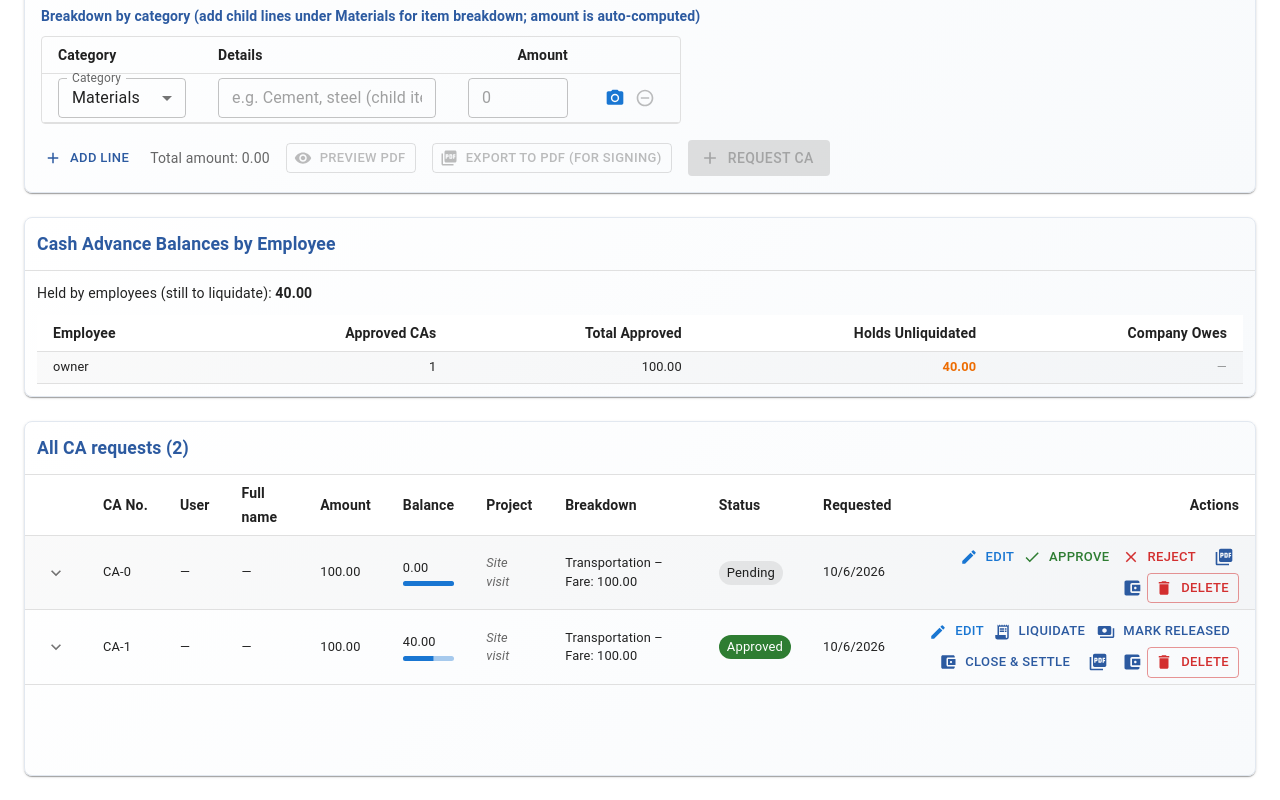
Test: superadmin can open approved request; cancelling makes no write
The image size is (1280, 800).
(page scrolled)
Check: the text "CA-1" is shown, box [87,610,164,685]
Step 1. Click the button "Edit" in the row of "CA-1" → (958, 632), box [926,616,990,647]
(page scrolled)
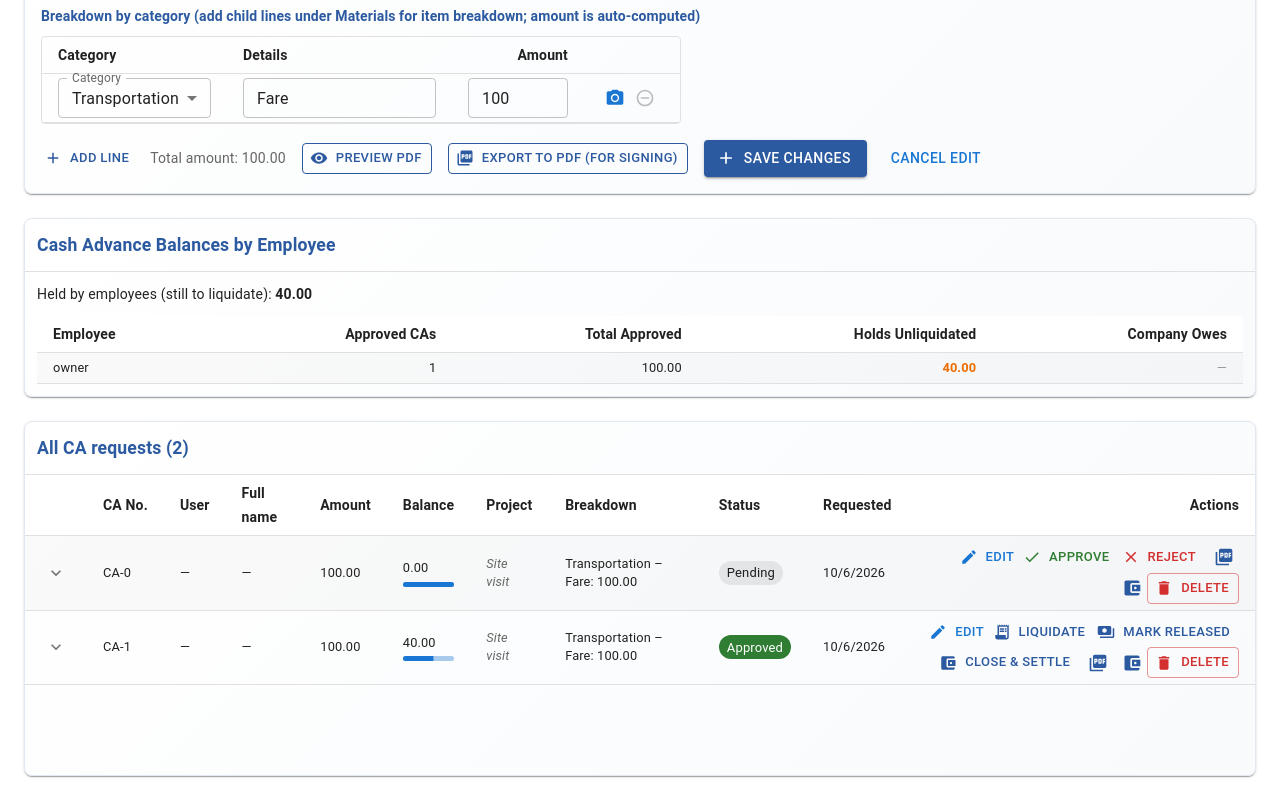
Step 2. Click the button "Cancel edit" → (936, 158), box [883,140,989,176]
(page scrolled)
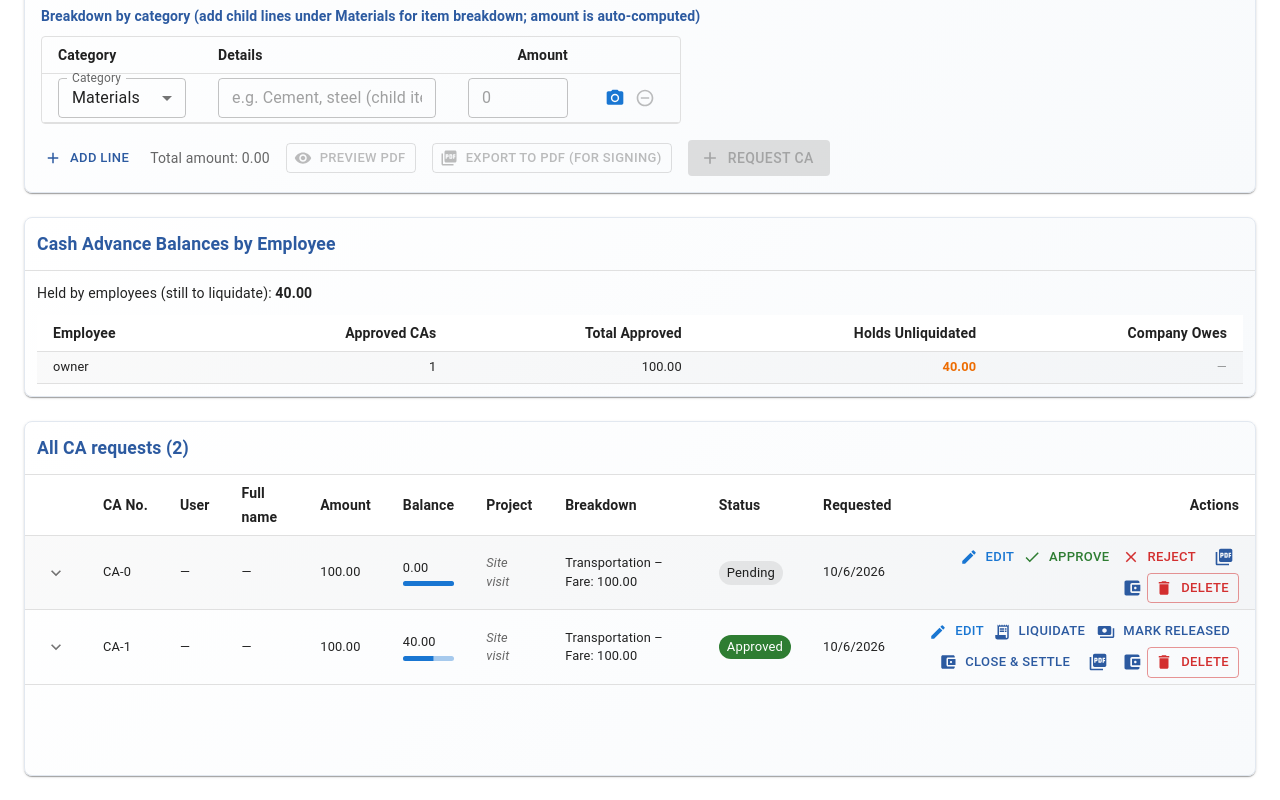
Check: the button "Request CA" is shown, box [688,140,830,176]
